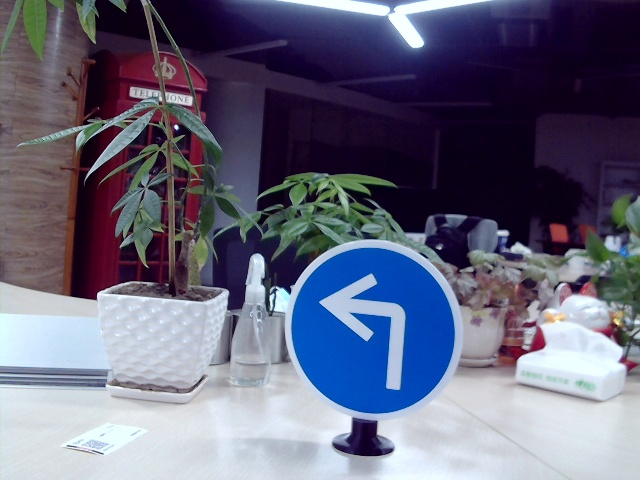turn_left: (317, 269, 415, 393)
